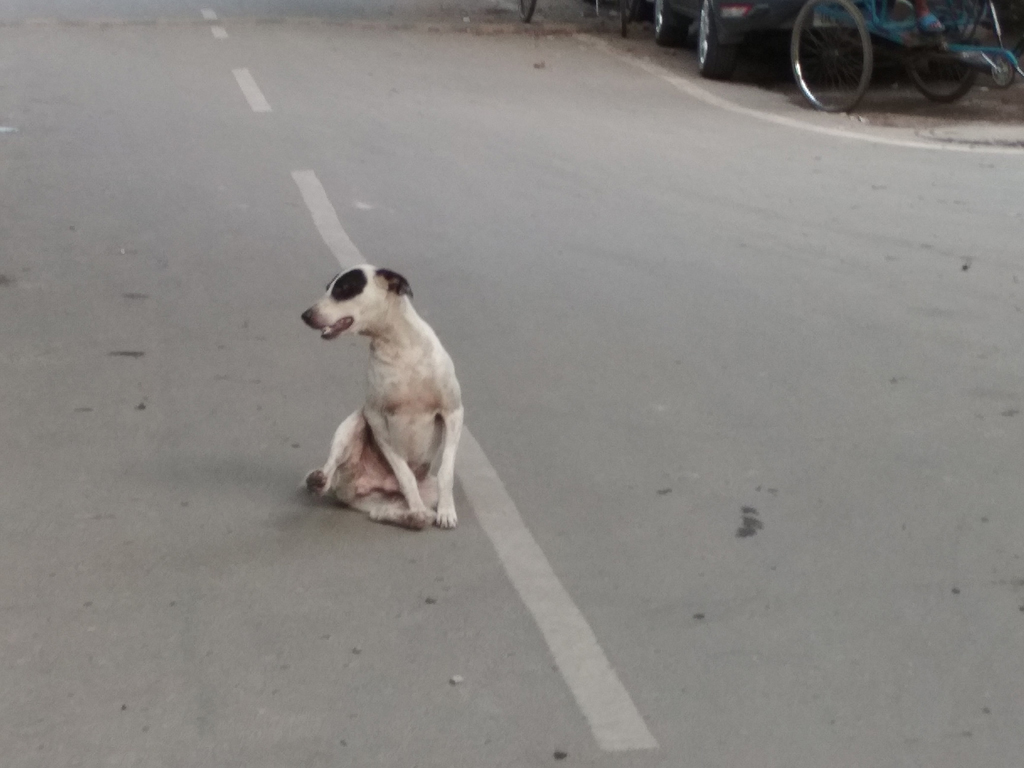dog: (302, 265, 466, 532)
